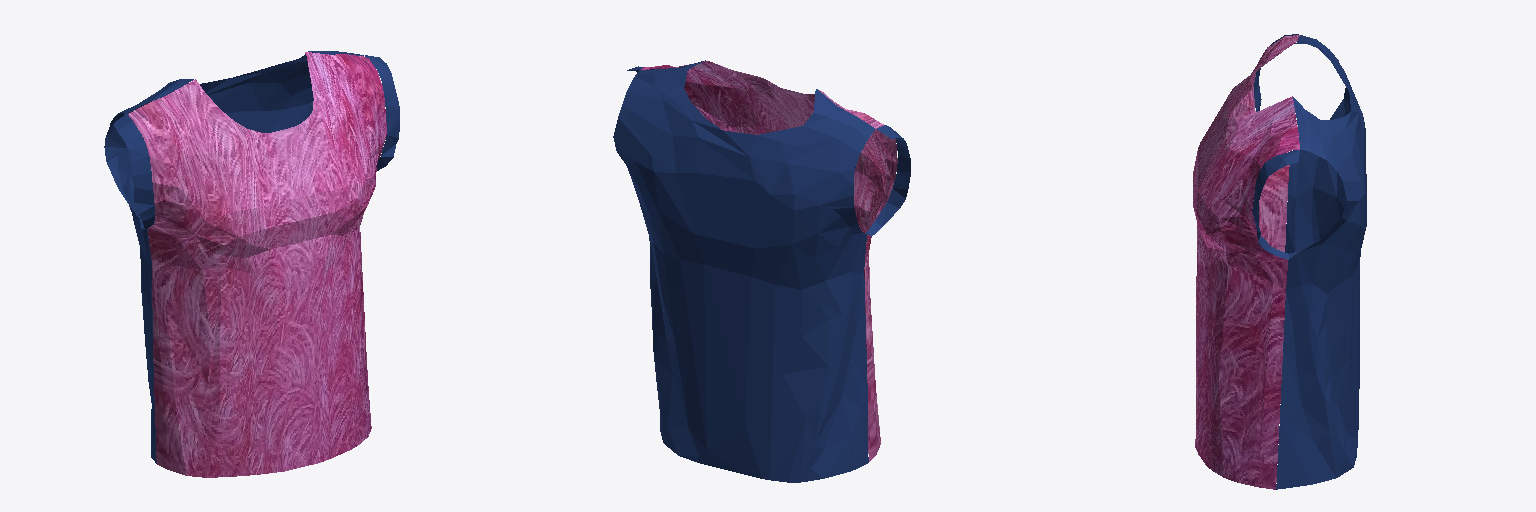
3 views of the same model, side by side, from view 1: azimuth 30°, elevation 25°; view 2: azimuth 150°, elevation 25°; view 3: azimuth 270°, elevation 25° (orthographic).
Visible parts, largest first — view 1: T_shirt.004; view 2: T_shirt.004; view 3: T_shirt.004.
Boxes of the visible parts, box(x1,y1,x2,y2) form: T_shirt.004: box(104, 51, 399, 477); T_shirt.004: box(613, 60, 910, 482); T_shirt.004: box(1193, 34, 1366, 489).
Size of the model in its own units: 0.2935 by 0.3892 by 0.1639.
2 materials, 1 textured.